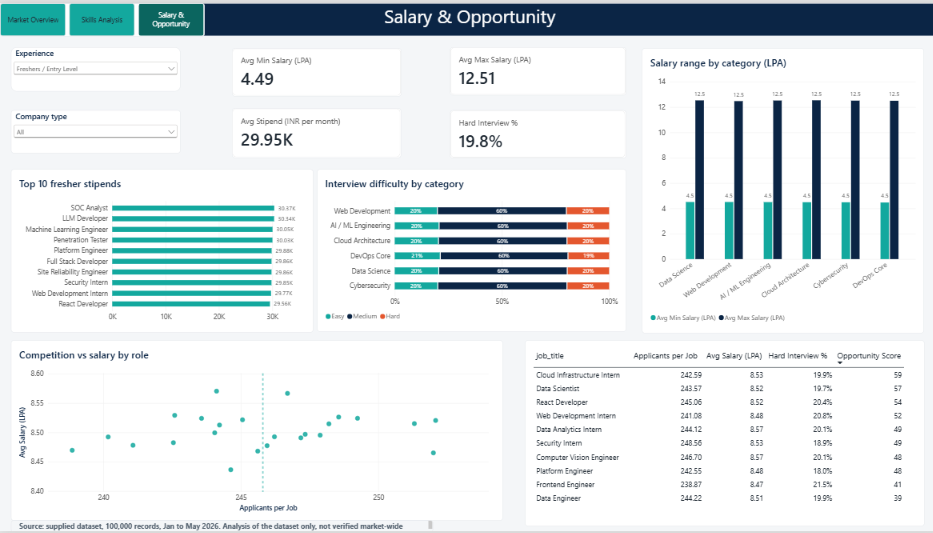

This screenshot's page, from the dashboard's own definition file:
{"tool":"powerbi","page":{"name":"Salary & Opportunity","canvas":[1920,1080],"ordinal":2},"visuals":[{"type":"textbox","box":[0,0,1920,67.5],"z":0},{"type":"slicer","fields":{"Values":["jobs.experience_level"]},"box":[22,90,346,90],"z":1000},{"type":"slicer","fields":{"Values":["jobs.Company type"]},"box":[22,218,346,88],"z":2000},{"type":"cardVisual","fields":{"Data":["all_measure.Avg Min Salary (LPA)"]},"box":[474,92,346,98],"z":3000},{"type":"cardVisual","fields":{"Data":["all_measure.Avg Max Salary (LPA)"]},"box":[920,90,360,98],"z":4000},{"type":"cardVisual","fields":{"Data":["all_measure.Hard Interview %"]},"box":[920.3,218.8,360,98.2],"z":5000},{"type":"clusteredColumnChart","title":"Salary range by category (LPA)","fields":{"Category":["jobs.job_category"],"Y":["all_measure.Avg Min Salary (LPA)","all_measure.Avg Max Salary (LPA)"]},"box":[1312,92,576,582],"z":6000},{"type":"clusteredBarChart","title":"Top 10 fresher stipends","fields":{"Category":["jobs.job_title"],"Y":["all_measure.Avg Stipend (INR per month)"]},"box":[22.6,339.6,617.5,333.4],"z":7000},{"type":"scatterChart","title":"Competition vs salary by role","fields":{"Category":["jobs.job_title"],"X":["all_measure.Applicants per Job"],"Y":["all_measure.Avg Salary (LPA)"]},"box":[22.6,687.5,1004.5,368.4],"z":8000},{"type":"hundredPercentStackedBarChart","title":"Interview difficulty by category","fields":{"Category":["jobs.job_category"],"Series":["jobs.interview_difficulty"],"Y":["all_measure.Total Jobs"]},"box":[648,340,632,332],"z":9000},{"type":"tableEx","fields":{"Values":["jobs.job_title","all_measure.Applicants per Job","all_measure.Avg Salary (LPA)","all_measure.Hard Interview %","all_measure.Opportunity Score"]},"box":[1072,688,816,380],"z":10000},{"type":"cardVisual","fields":{"Data":["all_measure.Avg Stipend (INR per month)"]},"box":[474.1,215.3,345.6,101.3],"z":11000},{"type":"pageNavigator","box":[0,0,418,68],"z":12000},{"type":"textbox","box":[22.5,1056.2,862.1,24.5],"z":12001}]}

Visuals, with their boxes in screenshot pixels (x1, y1, x2, y2), scaled from the page's 1920x1080 canvas onto the 933x533 screenshot:
textbox: [0,0,932,33]
slicer - jobs.experience_level: [11,44,179,89]
slicer - jobs.Company type: [11,108,179,151]
cardVisual - all_measure.Avg Min Salary (LPA): [230,45,398,94]
cardVisual - all_measure.Avg Max Salary (LPA): [447,44,622,93]
cardVisual - all_measure.Hard Interview %: [447,108,622,156]
"Salary range by category (LPA)" clusteredColumnChart: [638,45,917,333]
"Top 10 fresher stipends" clusteredBarChart: [11,168,311,332]
"Competition vs salary by role" scatterChart: [11,339,499,521]
"Interview difficulty by category" hundredPercentStackedBarChart: [315,168,622,332]
tableEx - jobs.job_title x all_measure.Applicants per Job: [521,340,917,527]
cardVisual - all_measure.Avg Stipend (INR per month): [230,106,398,156]
pageNavigator: [0,0,203,34]
textbox: [11,521,430,532]
